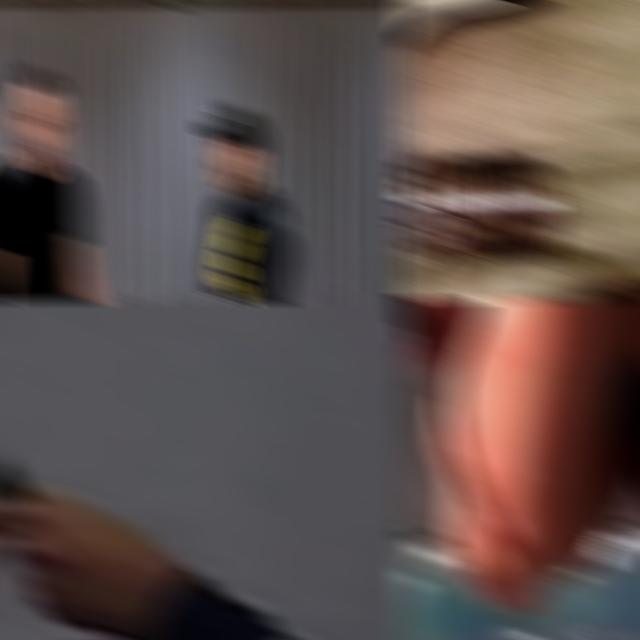Knife: (0, 341, 36, 501)
Knife_Handle: (0, 332, 134, 626), (396, 298, 478, 562)
